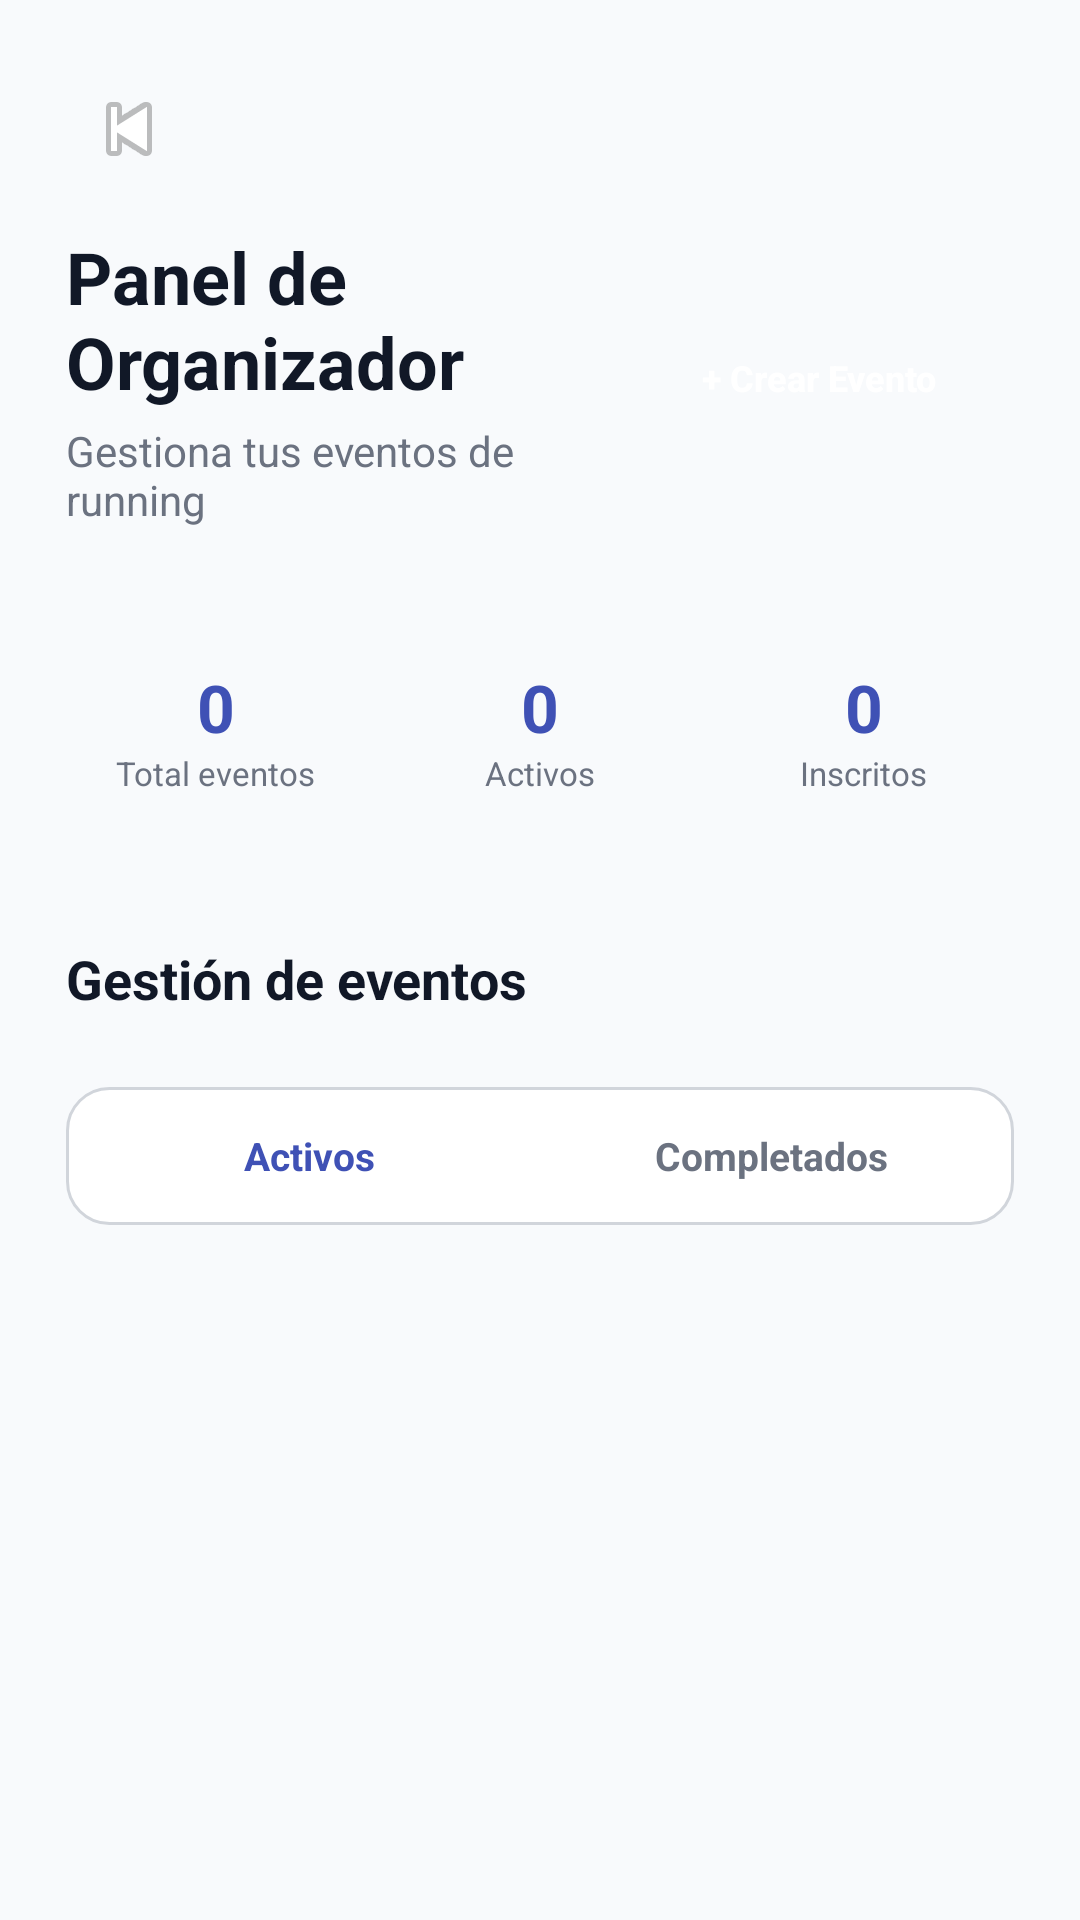

Icon click points for this 1080 x 1920 phone screenshot, format (x=x, y=y):
Volver: (x=129, y=129)
